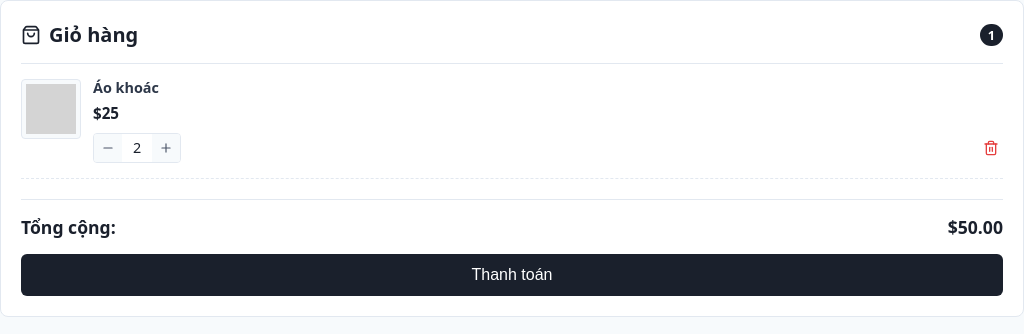
Cart integration tests › giảm số lượng và cập nhật tổng tiền khi nhấn nút trừ
The width and height of the screenshot is (1024, 334).
Click the 1st button at point(108, 148), box [94,134,122,162]
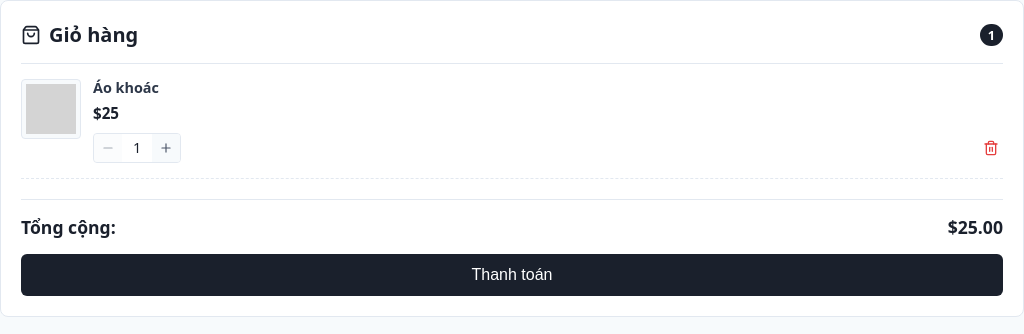
Result: the text "1" below "Áo khoác" is shown at [133,138,141,157]
Result: the text "$25.00" is shown at [948,215,1003,239]
